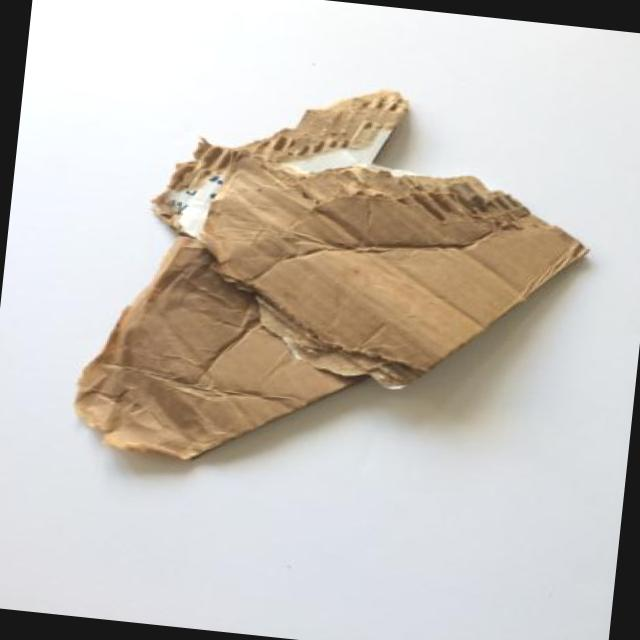cardboard: (76, 91, 585, 458), (203, 158, 585, 387), (75, 236, 353, 459), (154, 91, 407, 236)
